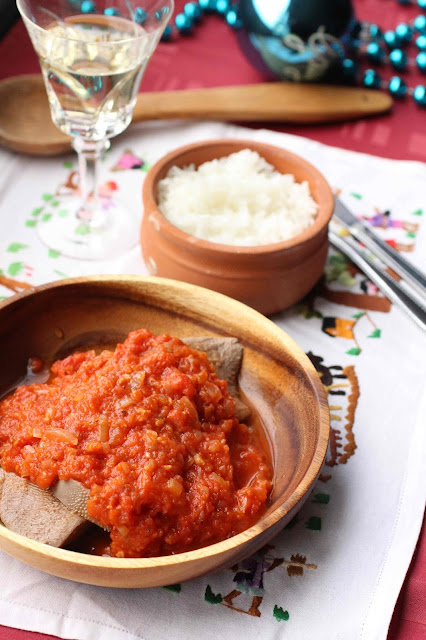Langue de veau: (3, 462, 124, 560), (169, 322, 273, 414)
Riz: (139, 134, 365, 277)
Sauce tomate: (2, 325, 324, 565)
